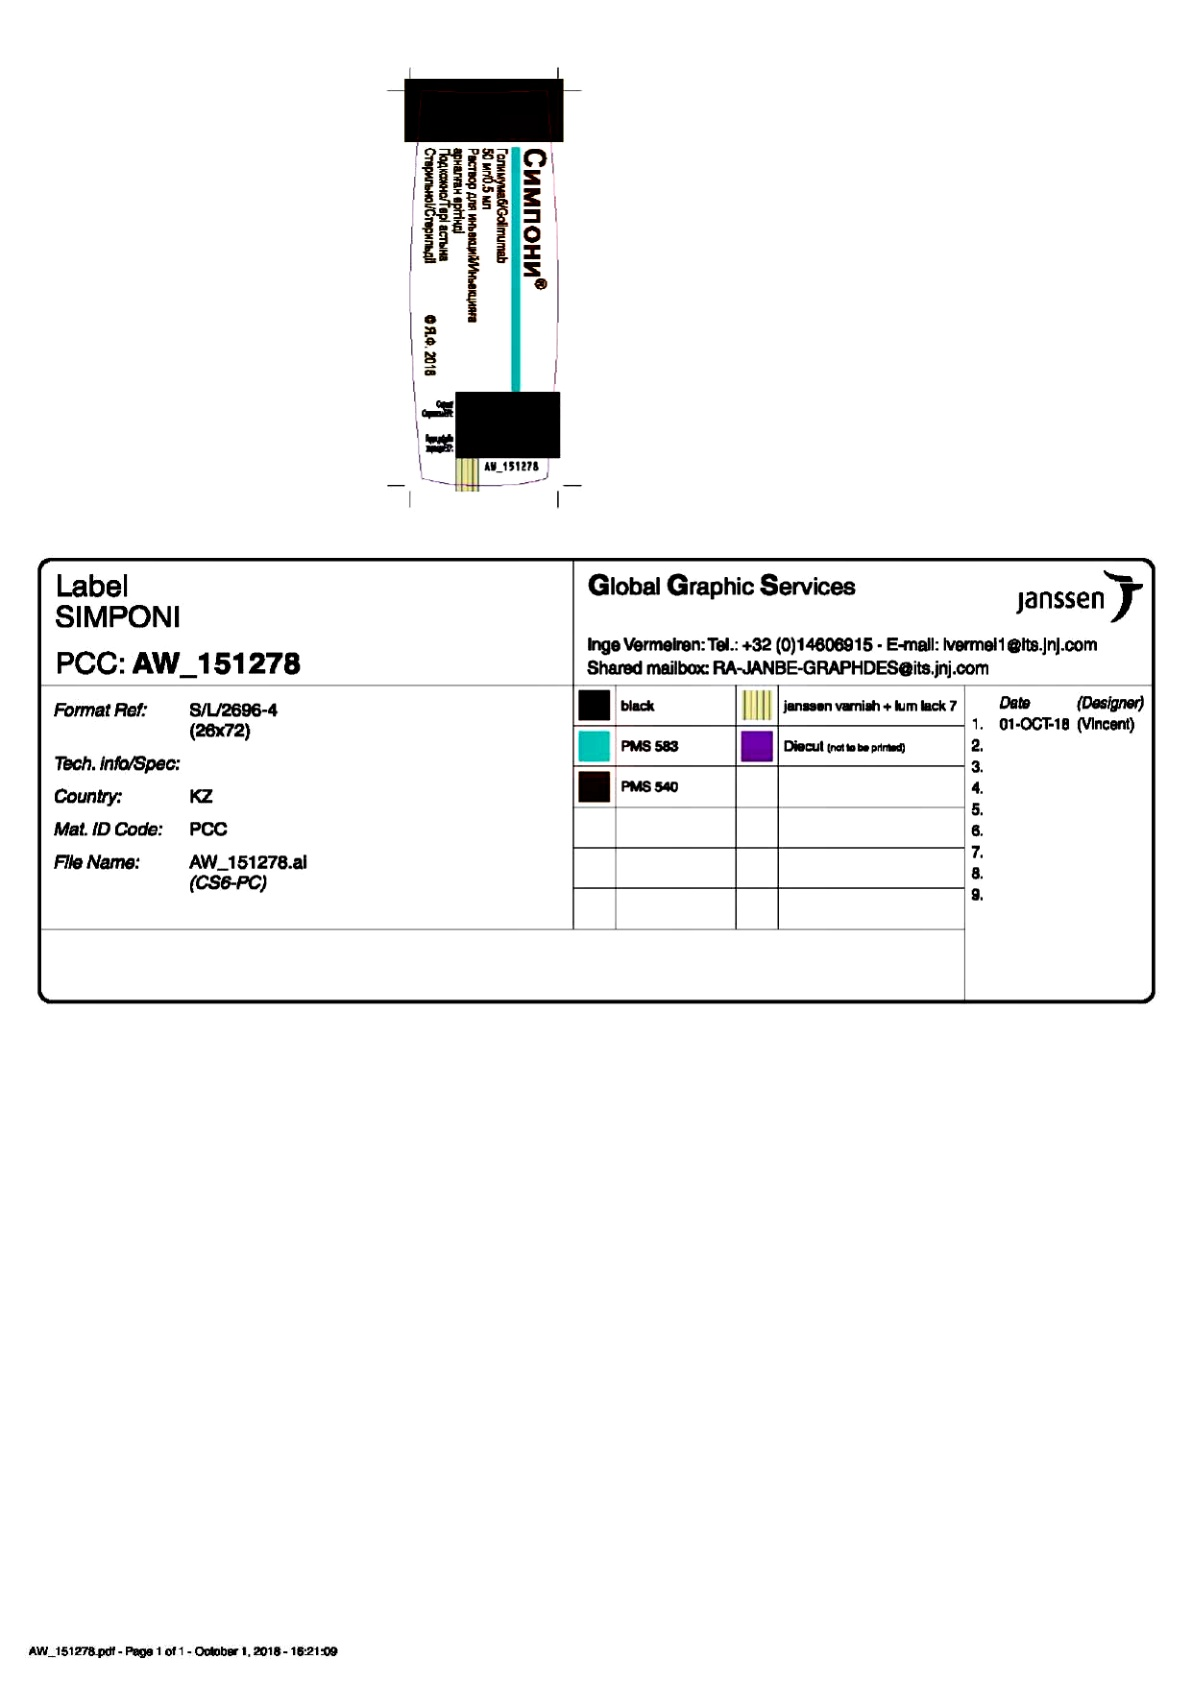merged_cells: (36, 556, 1156, 1006)
